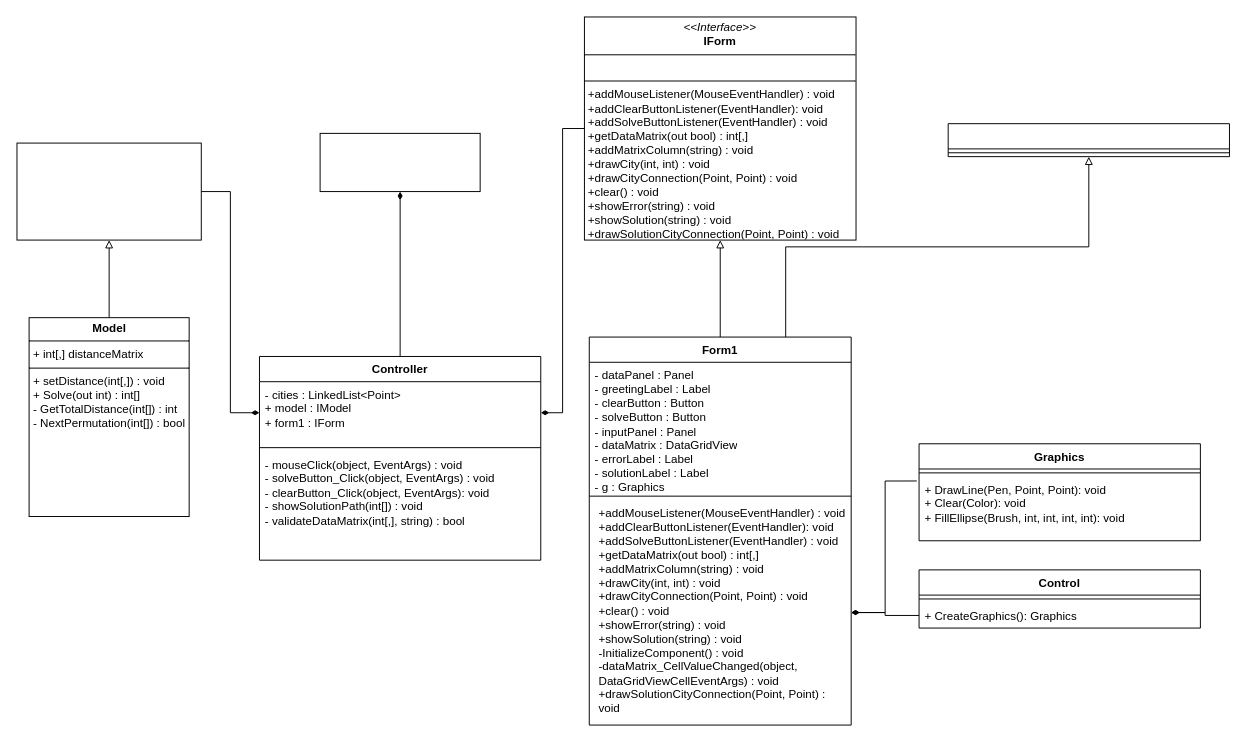
Image size: 1246x745. Some labels were removed from this diagram. The centre of each missing label's shape, as x and y in pixels:
<<Interface>> IModel + setDistance(int[,]) : void + Solve(out int) : int[]: (x=108, y=191)
Form: (x=1088, y=140)
Program + main(): (x=399, y=162)
